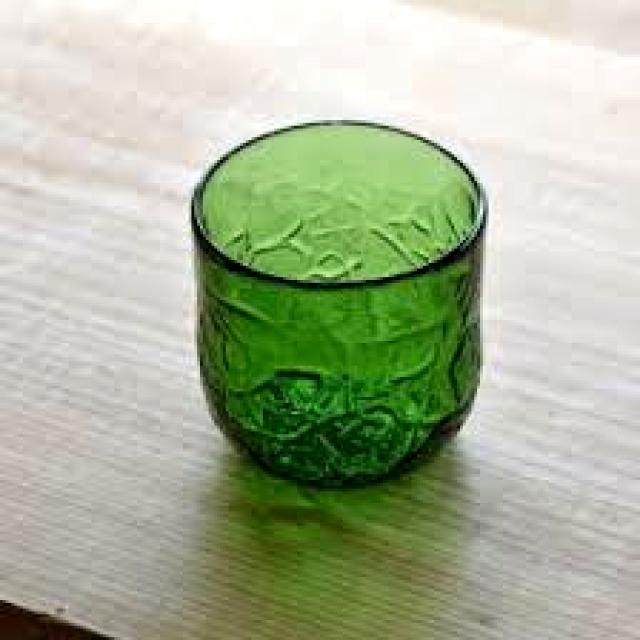Glass: (187, 111, 492, 490)
